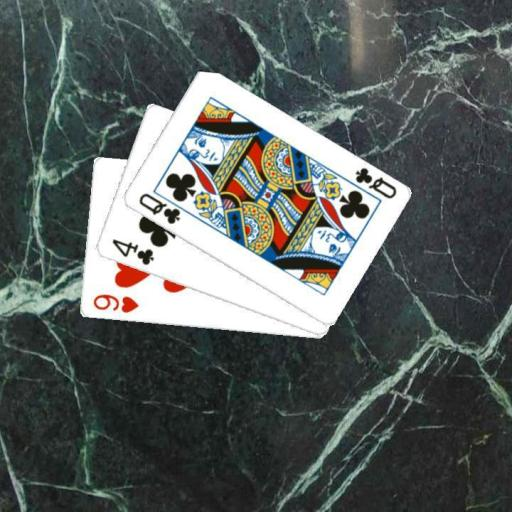card-corner: (352, 164, 398, 201), (135, 190, 182, 226), (108, 236, 155, 267), (90, 292, 140, 315)
